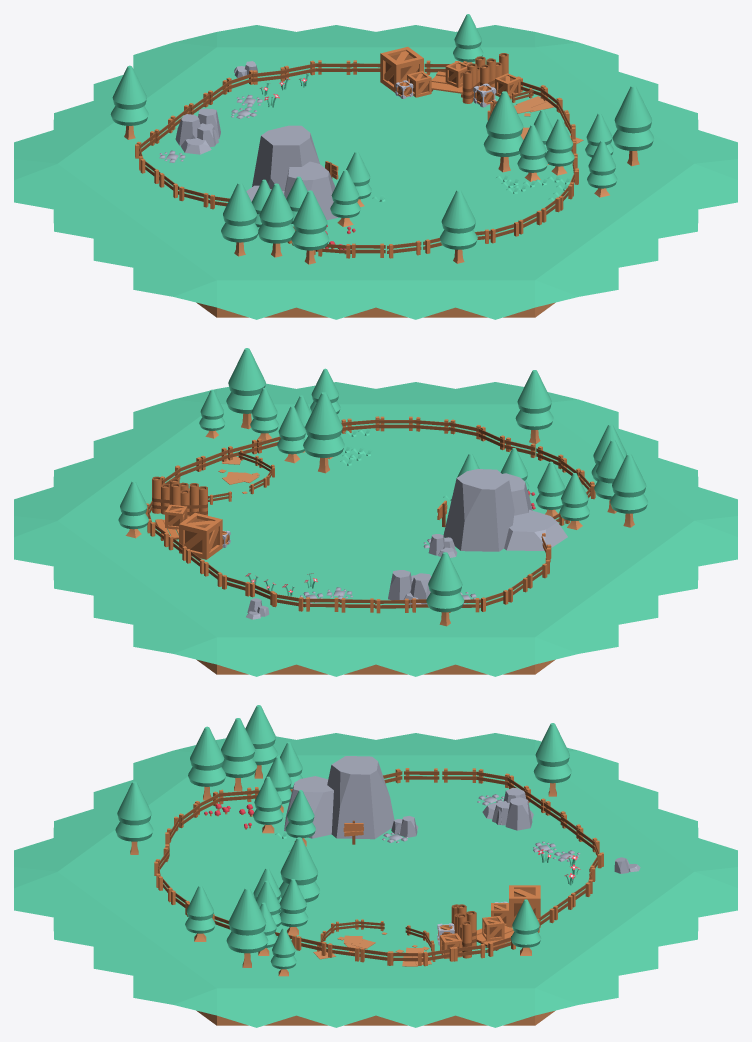
Rendered from world.gltf.
3 views of the same model, one above another, from view 1: azimuth 30°, elevation 25°; view 2: azimuth 150°, elevation 25°; view 3: azimuth 270°, elevation 25° (orthographic).
Visible parts, largest first — view 1: blockHexagon.041, rocks.001, treePine.002, treePine.003, treePine.001, treePine.005, treePine.008, treePine.007, treePine.004, crate.001, rocks.002, treePineSmall.005 (+9 smaller); view 2: blockHexagon.041, rocks.001, treePine.003, treePine.002, treePine.001, treePine.008, treePine.007, crate.001, treePineSmall.010, treePineSmall.004, treePine.004, treePineSmall.007 (+8 smaller); view 3: blockHexagon.041, rocks.001, treePine.002, treePine.001, treePine.008, treePine.005, treePine.004, treePine.003, treePine.007, treePineSmall.005, treePineSmall.001, treePineSmall.010 (+11 smaller).
Boxes of the visible parts, box(x1,y1,x2,y2) form: blockHexagon.041: box(14, 25, 737, 319); rocks.001: box(246, 125, 338, 219); treePine.002: box(612, 85, 654, 166); treePine.003: box(483, 91, 523, 172); treePine.001: box(439, 189, 477, 263); treePine.005: box(291, 190, 329, 264); treePine.008: box(110, 65, 148, 139); treePine.007: box(221, 182, 258, 256); treePine.004: box(258, 183, 295, 257); crate.001: box(380, 46, 423, 92); rocks.002: box(175, 114, 215, 154); treePineSmall.005: box(330, 170, 360, 226); blockHexagon.041: box(14, 382, 737, 676); rocks.001: box(443, 469, 567, 551); treePine.003: box(303, 392, 344, 473); treePine.002: box(226, 348, 265, 429); treePine.001: box(515, 370, 553, 443); treePine.008: box(426, 552, 464, 626); treePine.007: box(610, 453, 648, 527); crate.001: box(179, 512, 222, 559); treePineSmall.010: box(118, 481, 148, 538); treePineSmall.004: box(559, 473, 589, 529); treePine.004: box(594, 439, 624, 513); treePineSmall.007: box(277, 406, 305, 463); blockHexagon.041: box(14, 733, 737, 1027); rocks.001: box(284, 756, 394, 839); treePine.002: box(226, 887, 268, 967); treePine.001: box(115, 781, 153, 854); treePine.008: box(533, 723, 571, 796); treePine.005: box(188, 726, 225, 800); treePine.004: box(221, 718, 257, 791); treePine.003: box(279, 837, 319, 902); treePine.007: box(245, 705, 277, 778); treePineSmall.005: box(253, 776, 283, 833); treePineSmall.001: box(185, 885, 215, 941); treePineSmall.010: box(510, 899, 541, 955).
Size of the model in its own units: 10.96 by 1.99 by 11.36.
